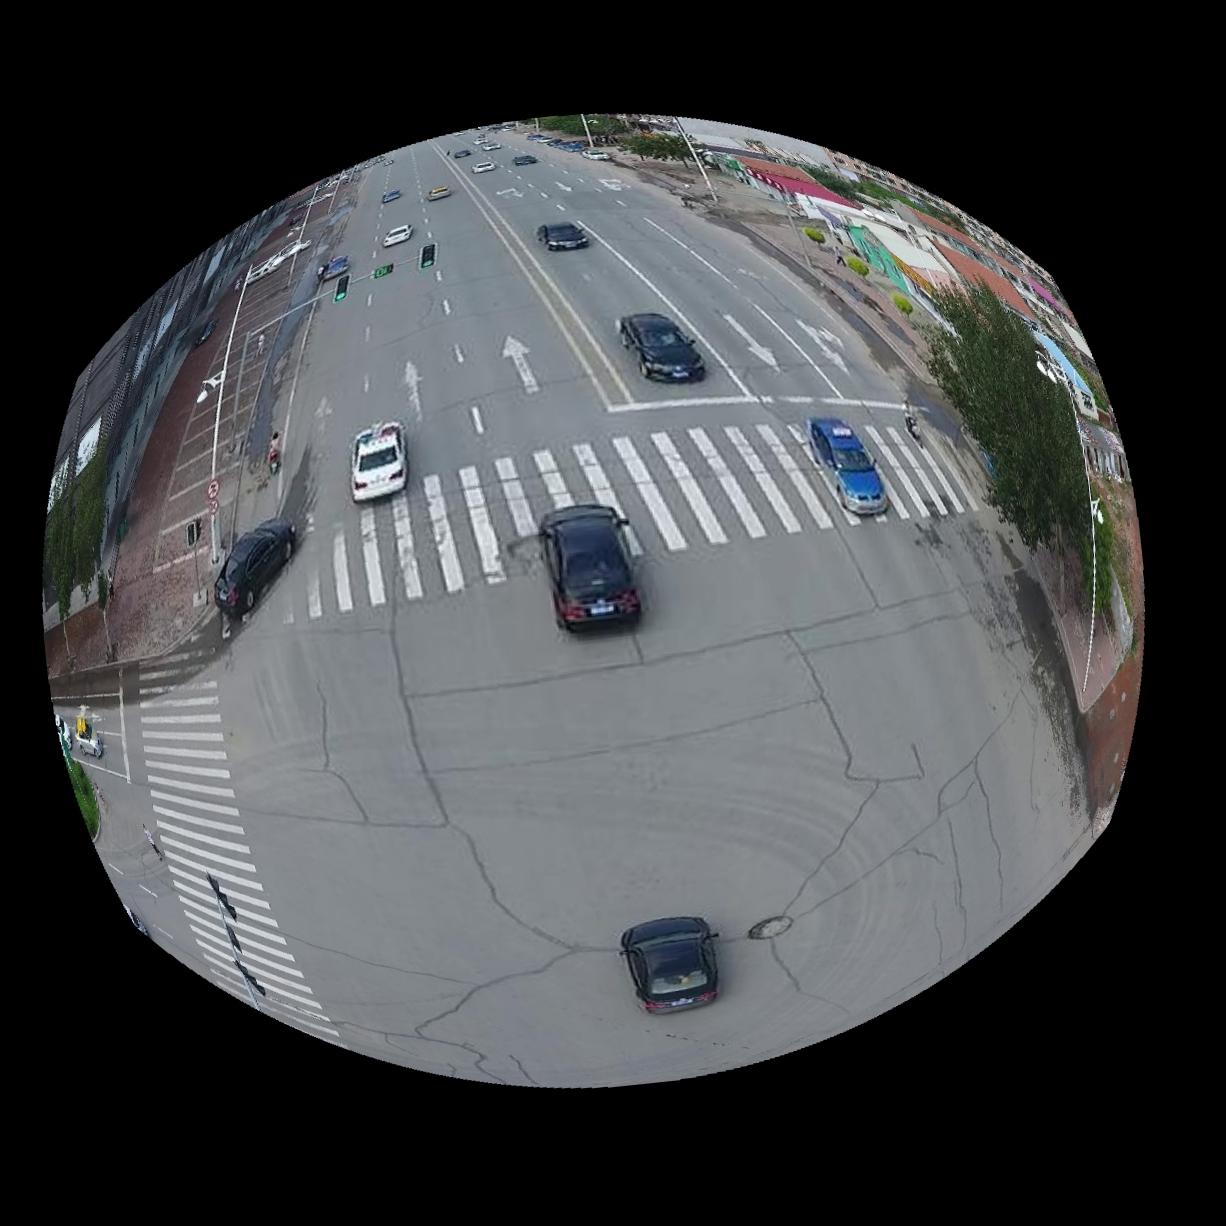cars: (538, 498, 641, 631), (211, 518, 294, 638), (620, 918, 716, 1015), (805, 418, 890, 519), (616, 312, 704, 382), (349, 421, 406, 502), (536, 220, 587, 249), (533, 451, 562, 494), (315, 255, 347, 282), (379, 223, 413, 247), (424, 184, 449, 200)
trees: (930, 283, 1092, 574), (40, 445, 104, 616), (63, 758, 98, 840), (619, 130, 689, 165), (585, 112, 631, 144), (538, 113, 584, 136)
